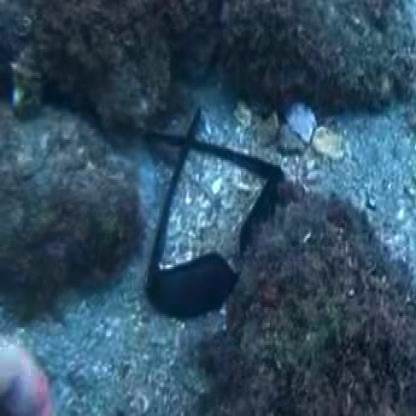sunglasses: (131, 114, 298, 364)
